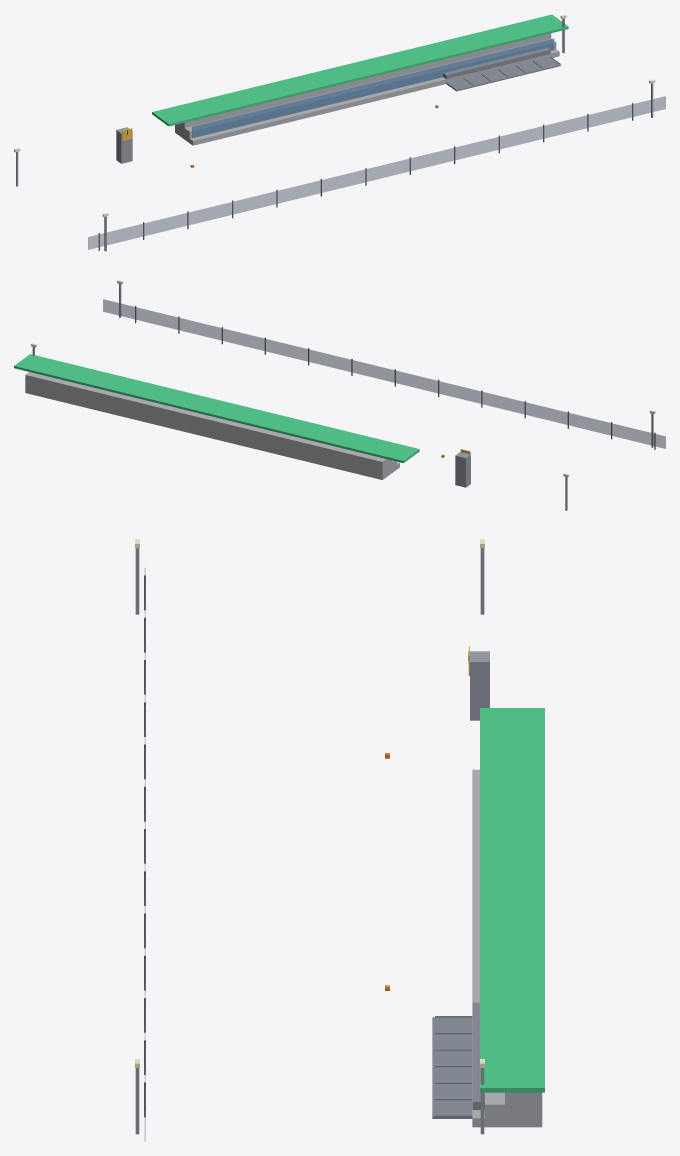
Rendered from venue_12.obj.
3 renders of one model, top to bottom at view 1: azimuth 30°, elevation 25°; view 2: azimuth 150°, elevation 25°; view 3: azimuth 270°, elevation 25°, orthographic. The views are drawn at different scales.
Size of the model in its own units: 520 by 32 by 164.
